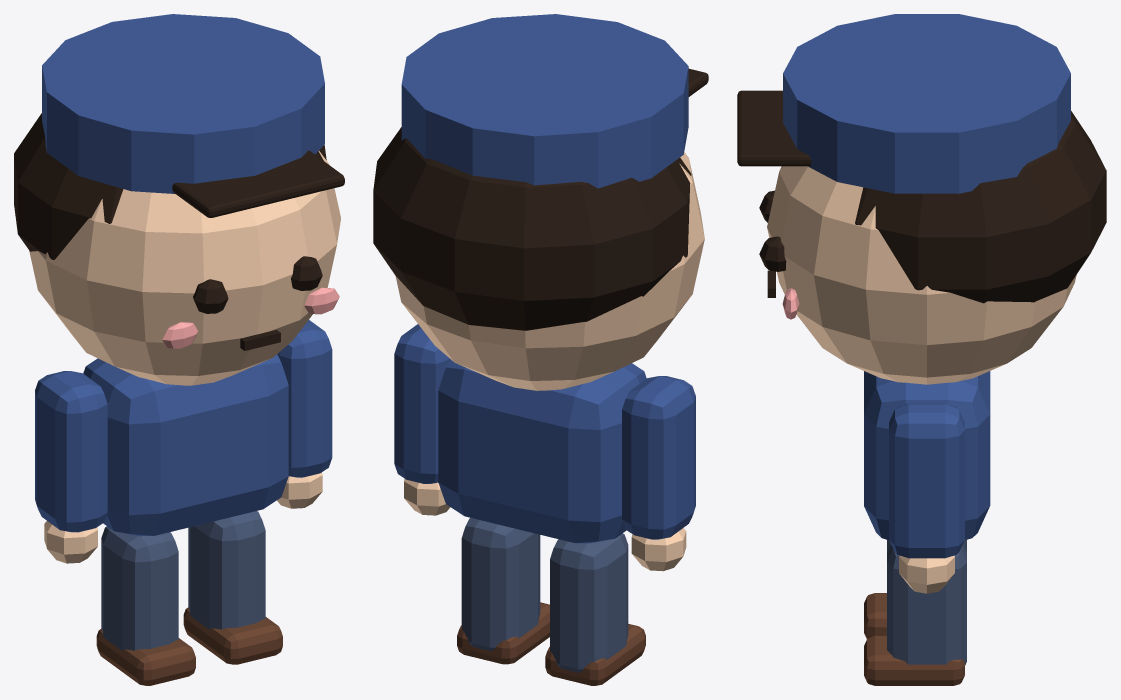
File: kar_penjaga_polisi.fbx
3 renders of one model, left to right at view 1: azimuth 30°, elevation 25°; view 2: azimuth 150°, elevation 25°; view 3: azimuth 270°, elevation 25°, orthographic.
Parts seen in each view (by area): view 1: kar_penjaga_polisi; view 2: kar_penjaga_polisi; view 3: kar_penjaga_polisi.
Boxes of the visible parts, box(x1,y1,x2,y2) form: kar_penjaga_polisi: box(14, 14, 344, 685); kar_penjaga_polisi: box(373, 14, 708, 685); kar_penjaga_polisi: box(737, 14, 1106, 685).
Size of the model in its own units: 76 by 152 by 87.6.
1 material, 1 textured.
